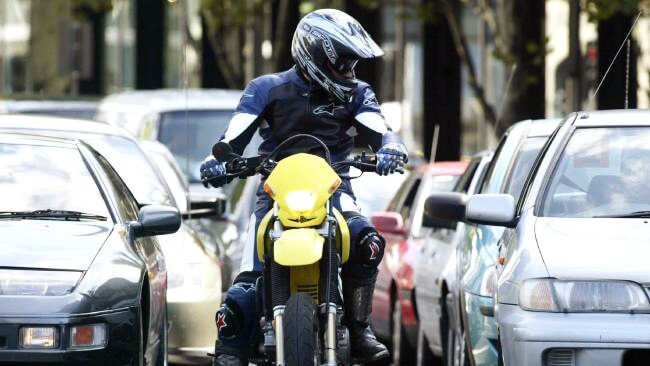helmet: (290, 5, 387, 106)
